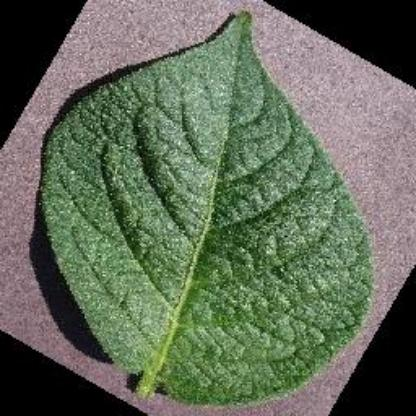Healthy-plant: (34, 10, 370, 404)
